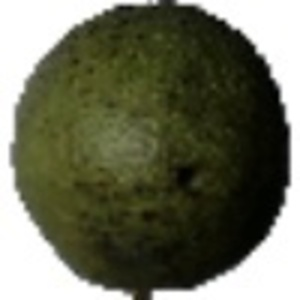abacate: (5, 2, 295, 292)
